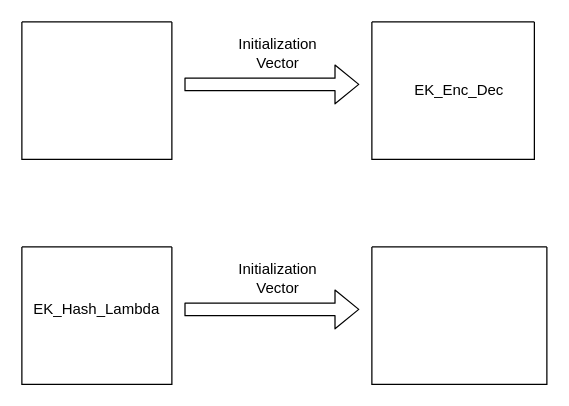
Some shapes in this 569 by 406 pixel diagram are drawn without their labels. The shapes that lost their labels are listed below. From the top down, each one's centre as x and y in pixels, then its label:
At (x=96, y=90): "EK_Hash".
At (x=459, y=315): "EK_Enc_Dec_Lambda".
